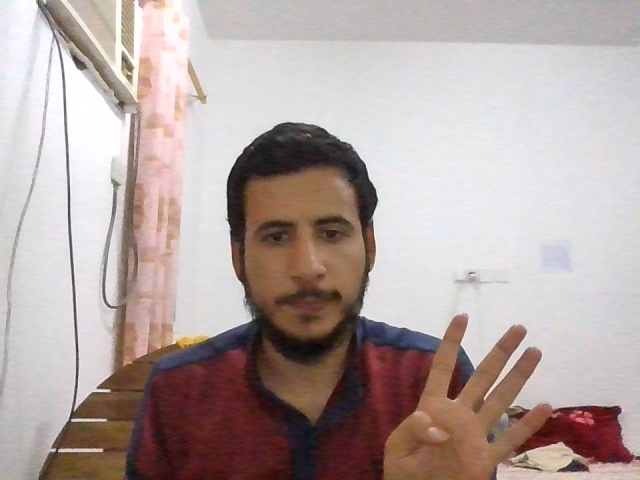Four: (381, 313, 556, 480)
